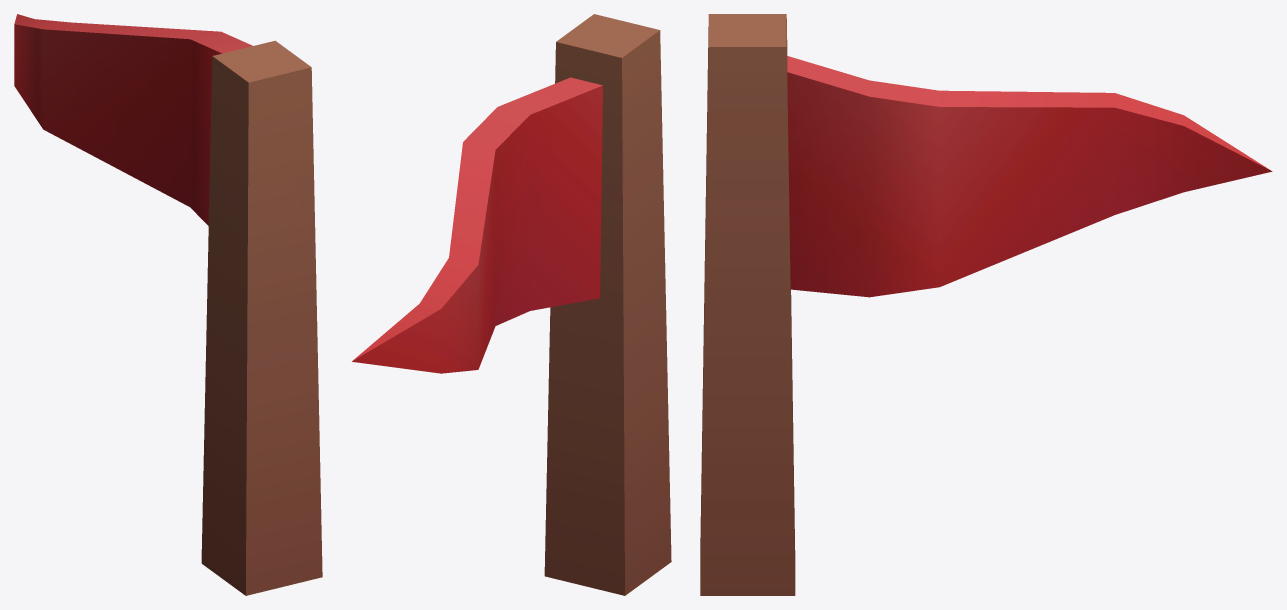
The model's file is flag_red.glb.
3 views of the same model, side by side, from view 1: azimuth 30°, elevation 25°; view 2: azimuth 150°, elevation 25°; view 3: azimuth 270°, elevation 25° (orthographic). The views are drawn at different scales.
Visible parts, largest first — view 1: flag_red; view 2: flag_red; view 3: flag_red.
Boxes of the visible parts, x1,y1,x2,y2 form: flag_red: [14, 14, 322, 595]; flag_red: [352, 14, 671, 595]; flag_red: [700, 14, 1272, 595].
Size of the model in its own units: 0.055 by 0.2775 by 0.264.
1 material, 1 textured.
